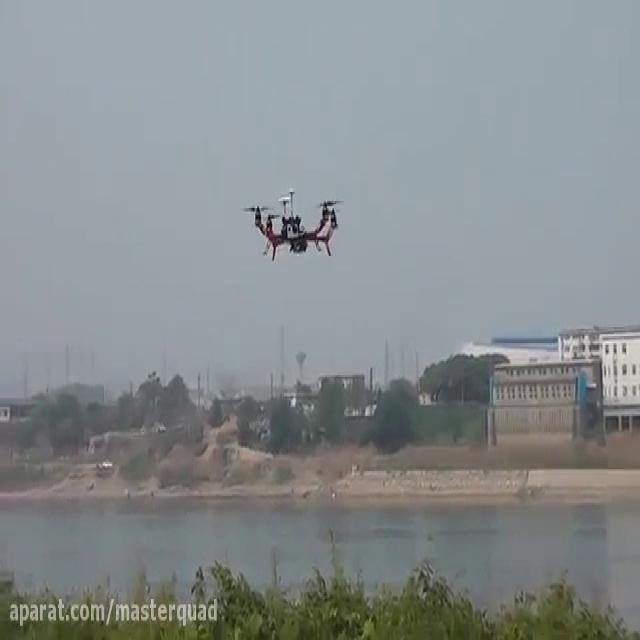drone: (236, 180, 347, 268)
